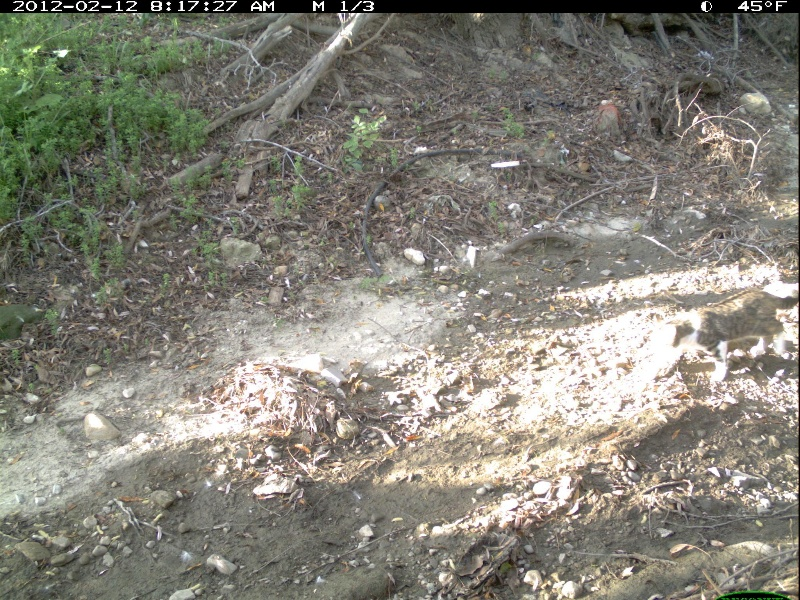cat: (659, 289, 800, 385)
